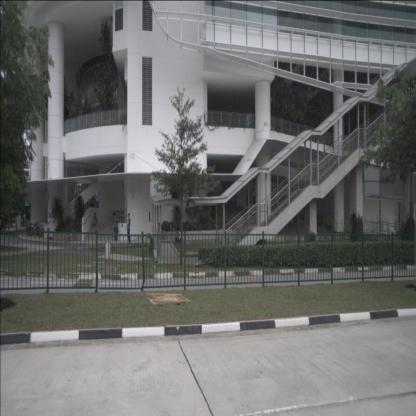human-pedestrian-adult: (155, 222, 163, 263), (125, 212, 131, 246), (147, 233, 155, 256), (112, 213, 118, 242), (175, 228, 181, 246), (93, 212, 97, 226)
vehicle-bicycle: (65, 223, 76, 242)
